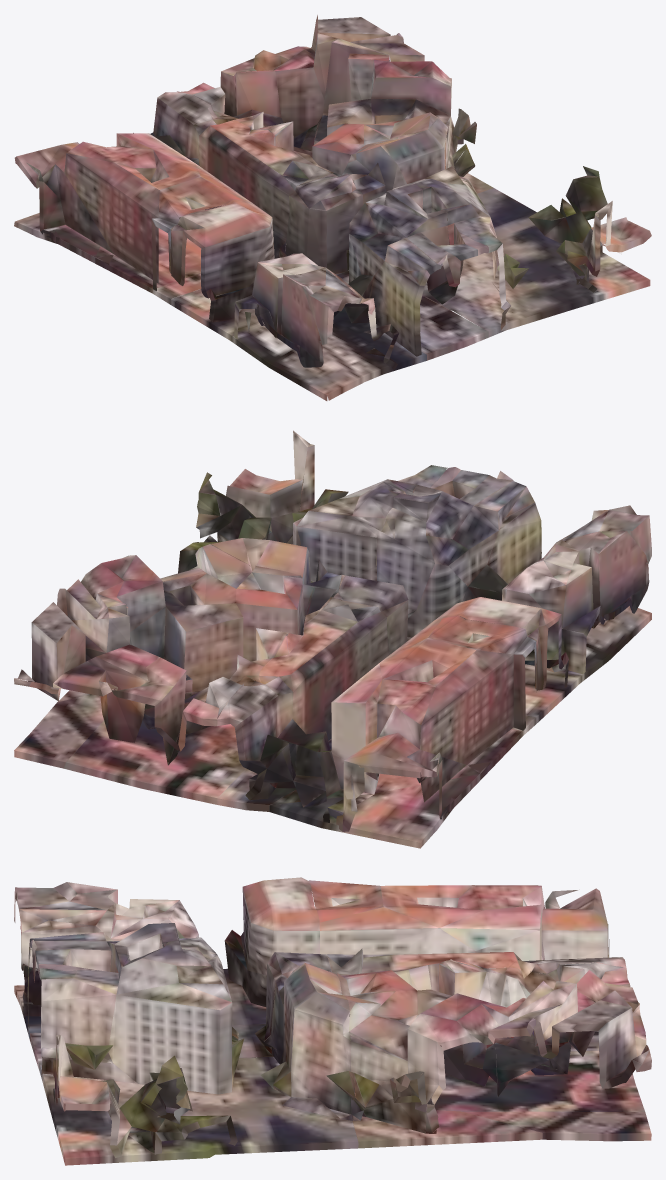
3 renders of one model, top to bottom at view 1: azimuth 30°, elevation 25°; view 2: azimuth 150°, elevation 25°; view 3: azimuth 270°, elevation 25°, orthographic. The views are drawn at different scales.
Visible parts, largest first — view 1: Mesh_0; view 2: Mesh_0; view 3: Mesh_0.
Boxes of the visible parts, bbox=[...] form: Mesh_0: bbox=[14, 15, 651, 400]; Mesh_0: bbox=[14, 430, 651, 848]; Mesh_0: bbox=[14, 877, 651, 1165].
Bounding box in the file's own units: 134 × 42.07 × 165.
Materials: 1 (1 with a texture image).
